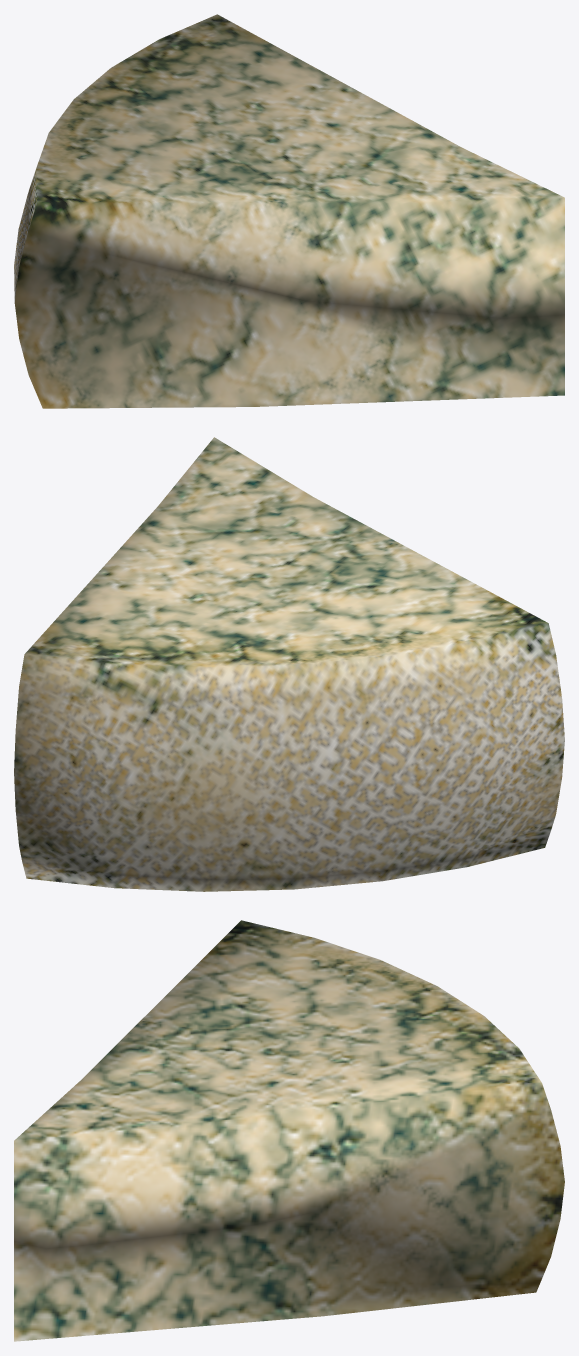
File: cheesewedge.fbx
3 views of the same model, one above another, from view 1: azimuth 30°, elevation 25°; view 2: azimuth 150°, elevation 25°; view 3: azimuth 270°, elevation 25° (orthographic). The views are drawn at different scales.
Visible parts, largest first — view 1: Cheesewedge; view 2: Cheesewedge; view 3: Cheesewedge.
Boxes of the visible parts, x1,y1,x2,y2 form: Cheesewedge: (14, 14, 564, 408); Cheesewedge: (14, 437, 564, 891); Cheesewedge: (14, 920, 564, 1341).
Size of the model in its own units: 0.7643 by 0.3567 by 0.8269.
